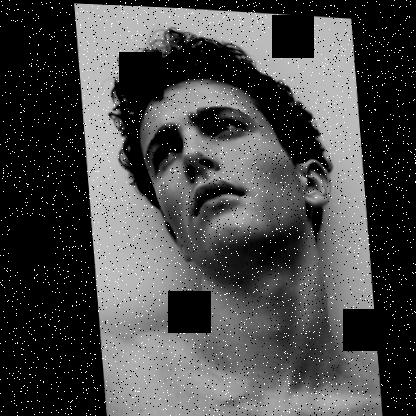Male: (140, 73, 333, 266)
